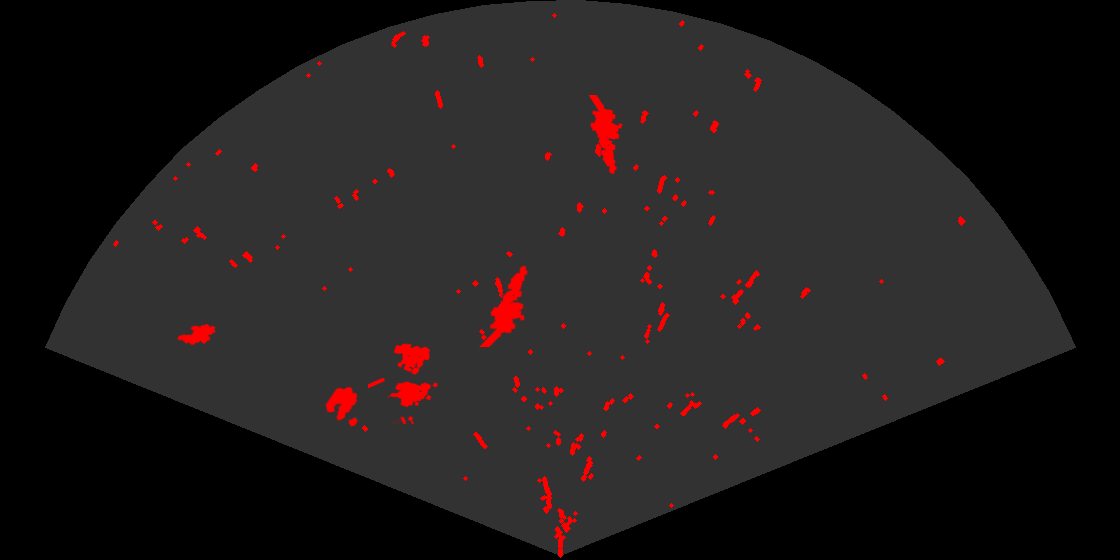AUV: (175, 322, 217, 347)
ball: (324, 385, 360, 428)
cage: (368, 342, 440, 424)
frogman: (477, 264, 529, 347), (587, 95, 624, 176)
